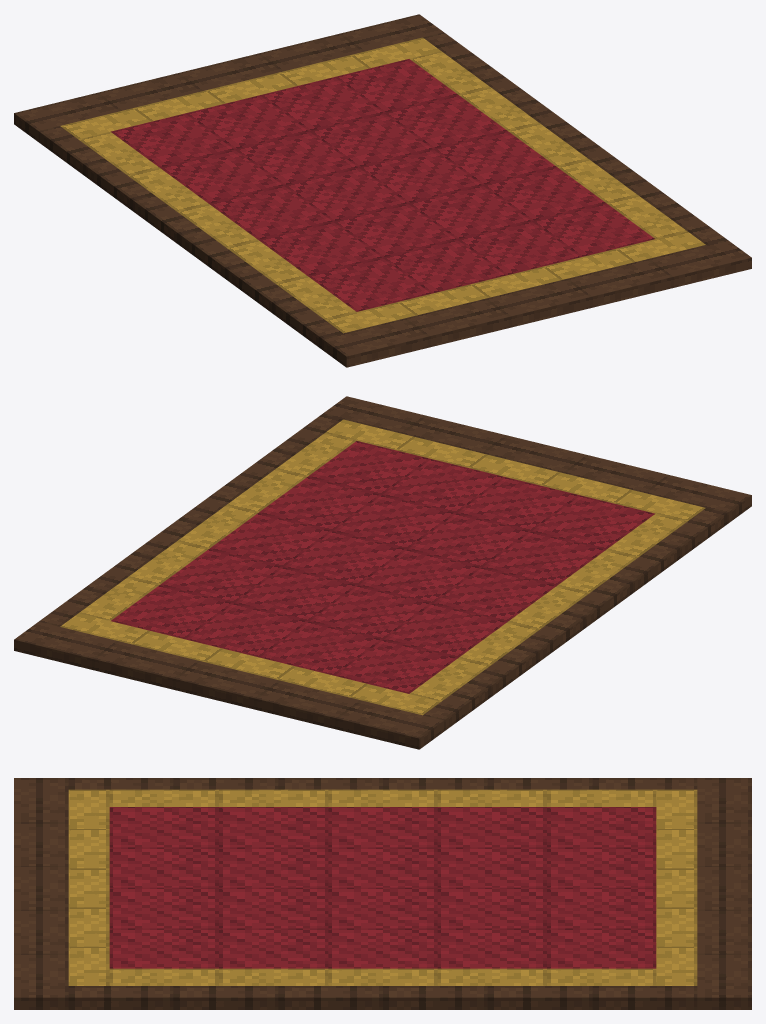
File: corridorCarpet_0.glb
3 views of the same model, one above another, from view 1: azimuth 30°, elevation 25°; view 2: azimuth 150°, elevation 25°; view 3: azimuth 270°, elevation 25° (orthographic). The views are drawn at different scales.
Parts seen in each view (by area): view 1: corridorCarpet_0; view 2: corridorCarpet_0; view 3: corridorCarpet_0.
Part boxes in pixels (x1,y1,x2,y2): corridorCarpet_0: [14, 14, 751, 367]; corridorCarpet_0: [14, 396, 751, 749]; corridorCarpet_0: [14, 778, 751, 1009].
Bounding box in the file's own units: 2.38 × 0.0625 × 3.38.
Materials: 1 (1 with a texture image).
